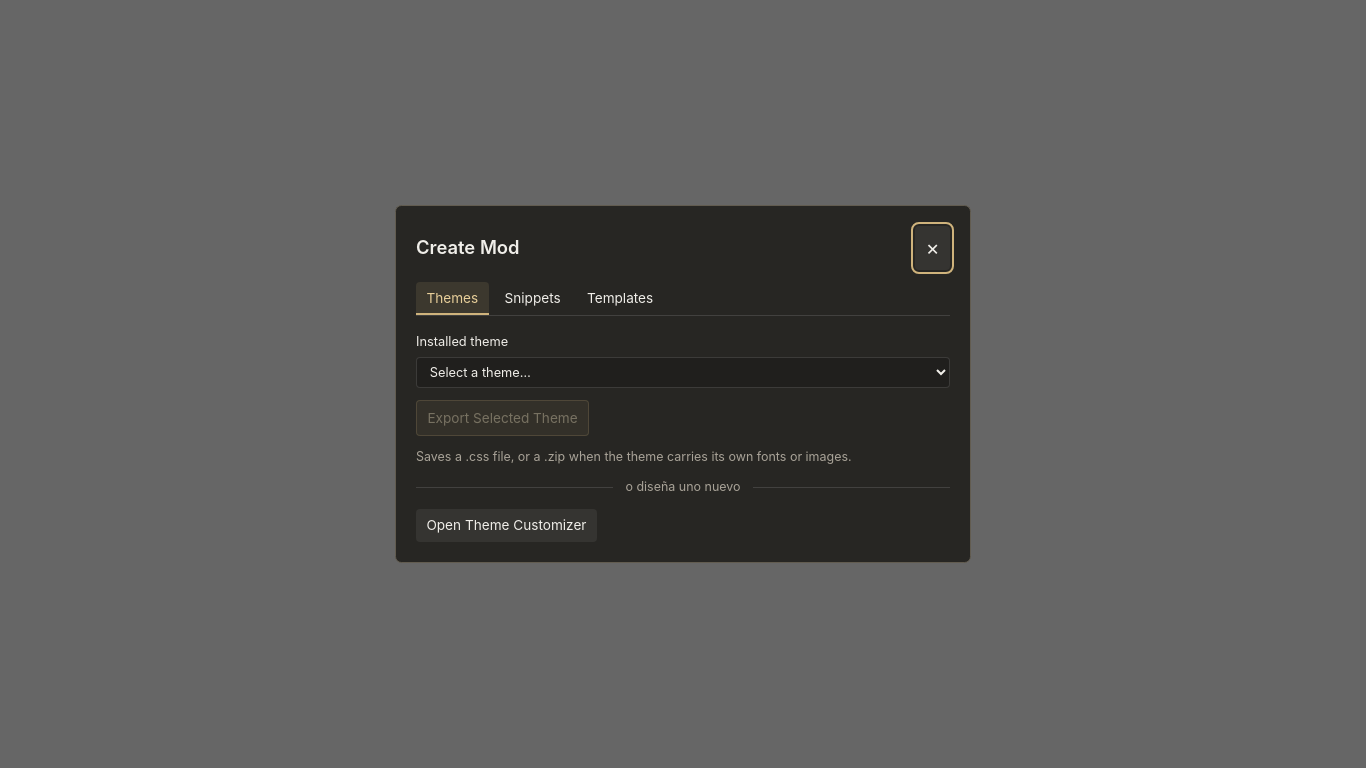
shows a plain sentence when a theme export fails
Select "Arcane Ink" in the dropdown named "Installed theme" at (683, 373), box [416,357,950,388]
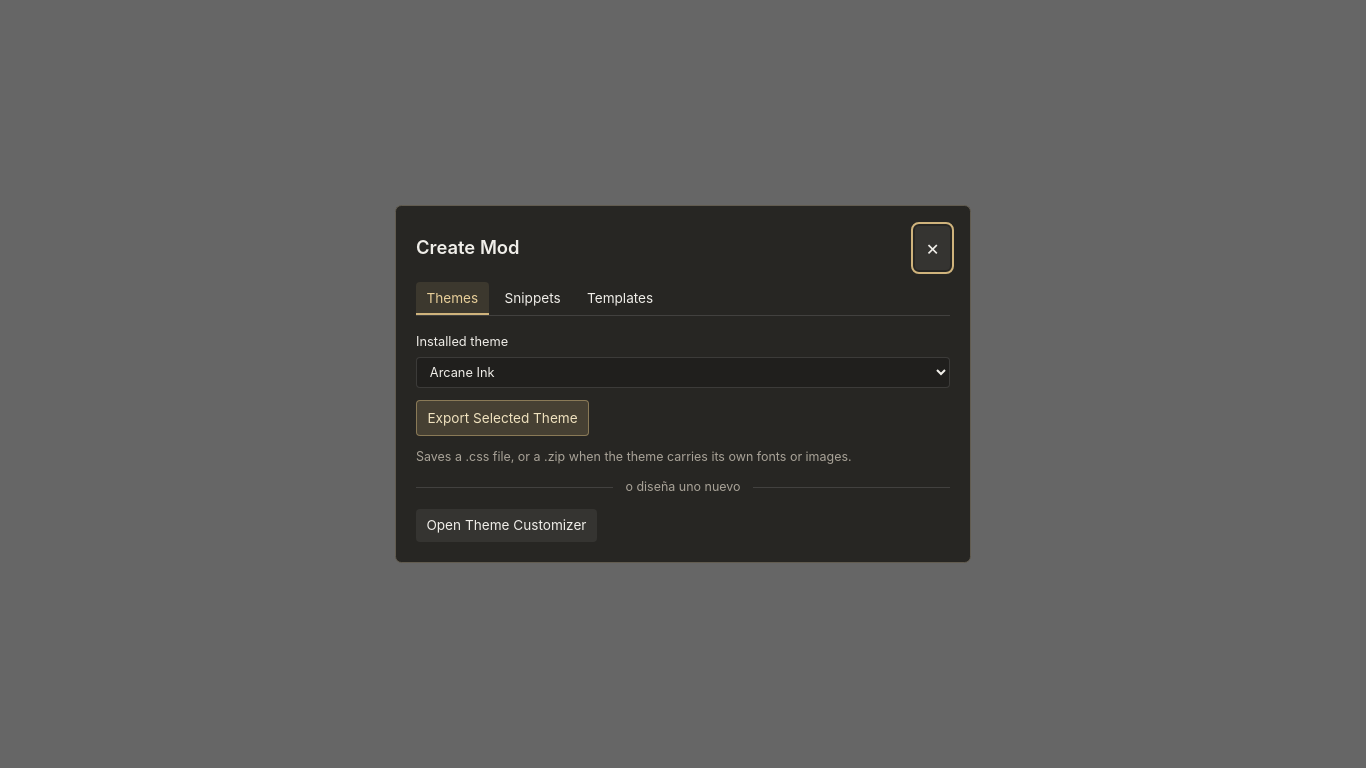
Click the button "Export Selected Theme" at (502, 418), box [416,400,589,436]
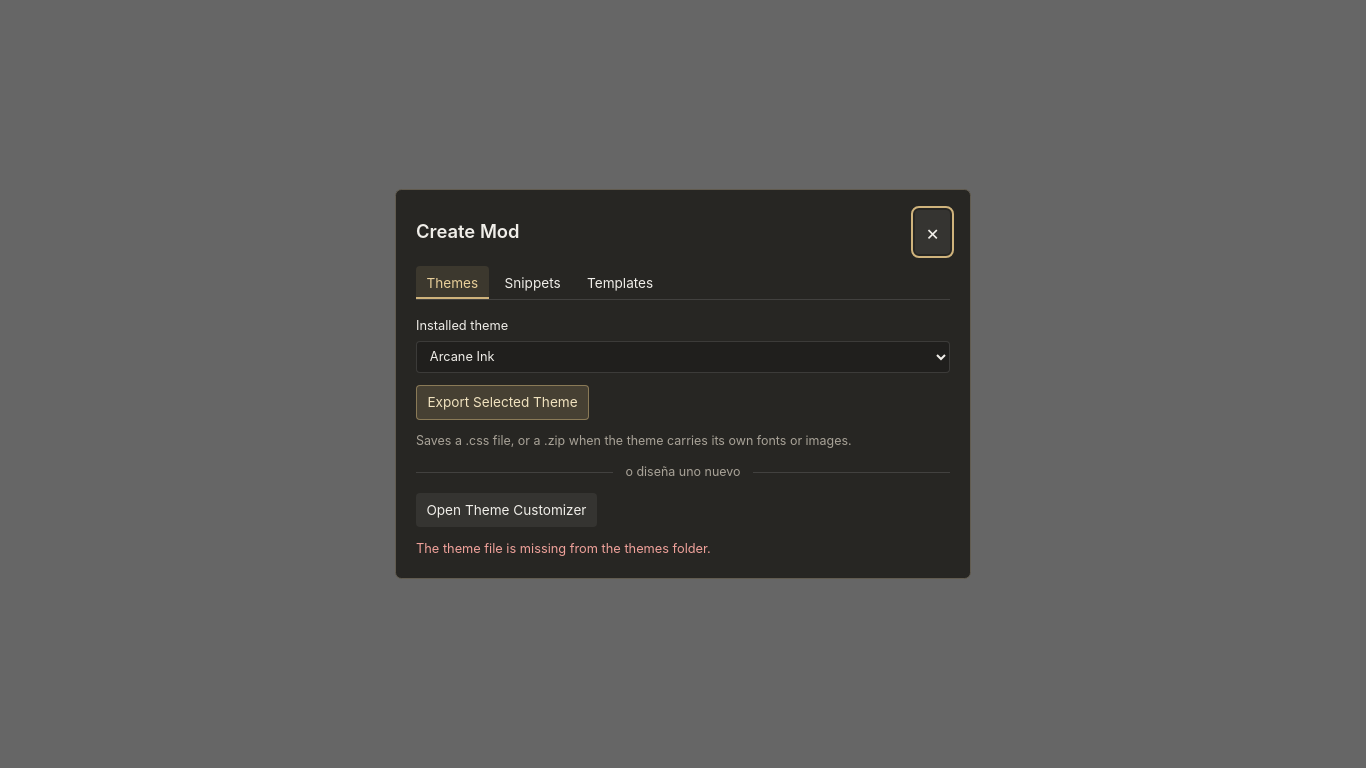
Result: the message "The theme file is missing from the themes folder." is shown at [416,541,711,556]
